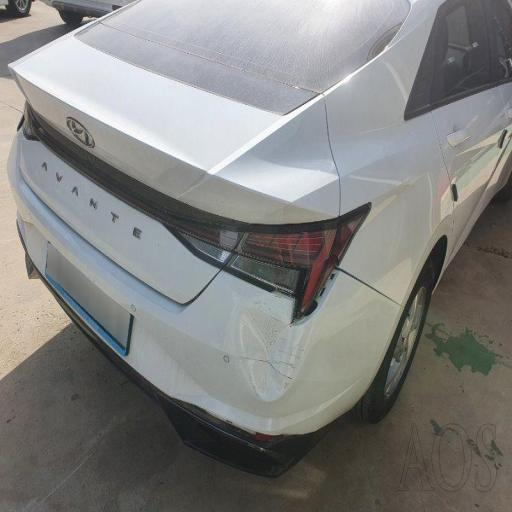dent: (236, 97, 434, 241), (232, 292, 328, 409)
